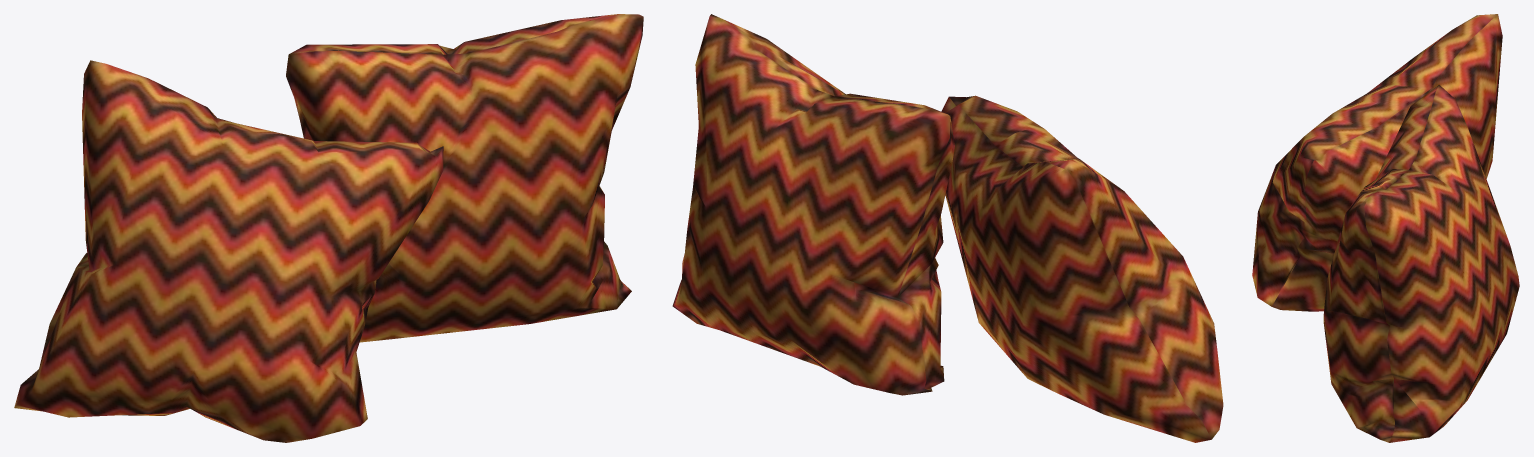
Rendered from pillows.glb.
3 views of the same model, side by side, from view 1: azimuth 30°, elevation 25°; view 2: azimuth 150°, elevation 25°; view 3: azimuth 270°, elevation 25° (orthographic). The views are drawn at different scales.
Parts seen in each view (by area): view 1: throw_pillows_01_pillow02; view 2: throw_pillows_01_pillow02; view 3: throw_pillows_01_pillow02.
Part boxes in pixels (x1,y1,x2,y2): throw_pillows_01_pillow02: [14, 14, 643, 442]; throw_pillows_01_pillow02: [672, 14, 1223, 442]; throw_pillows_01_pillow02: [1252, 14, 1519, 442].
Size of the model in its own units: 0.9342 by 0.4499 by 0.4485.
Materials: 1 (1 with a texture image).
